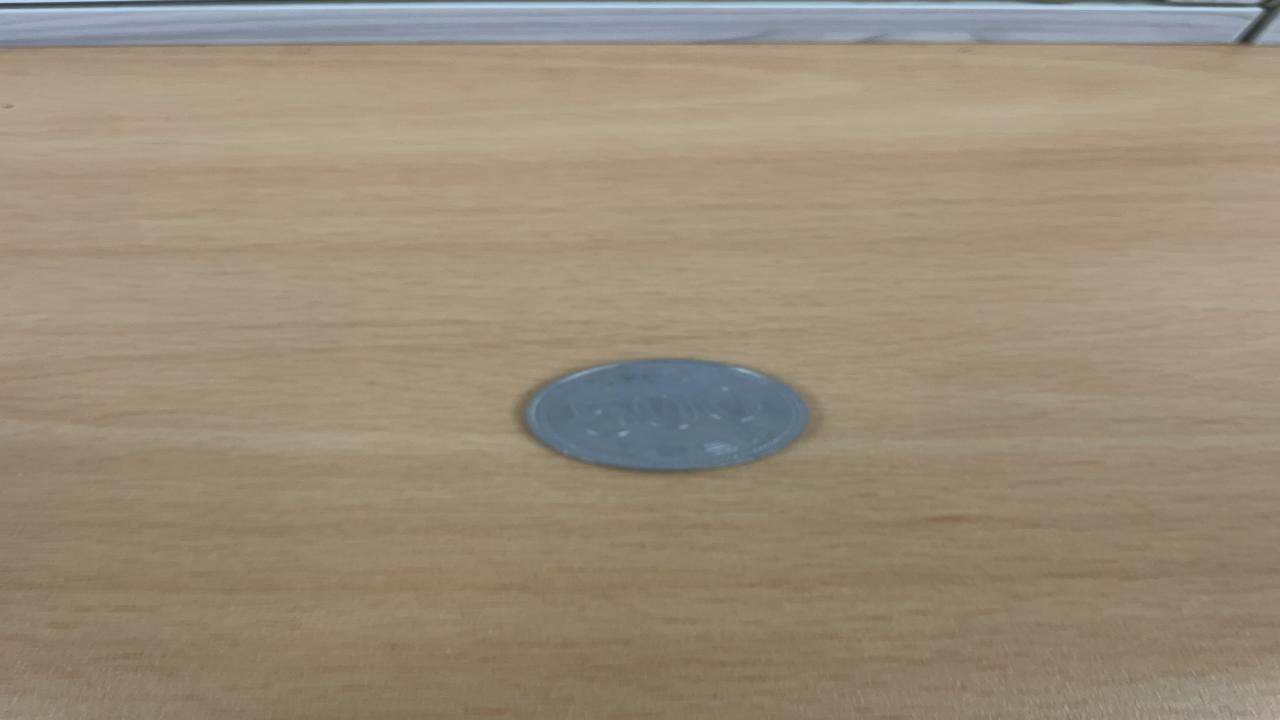coin: (521, 358, 816, 472)
